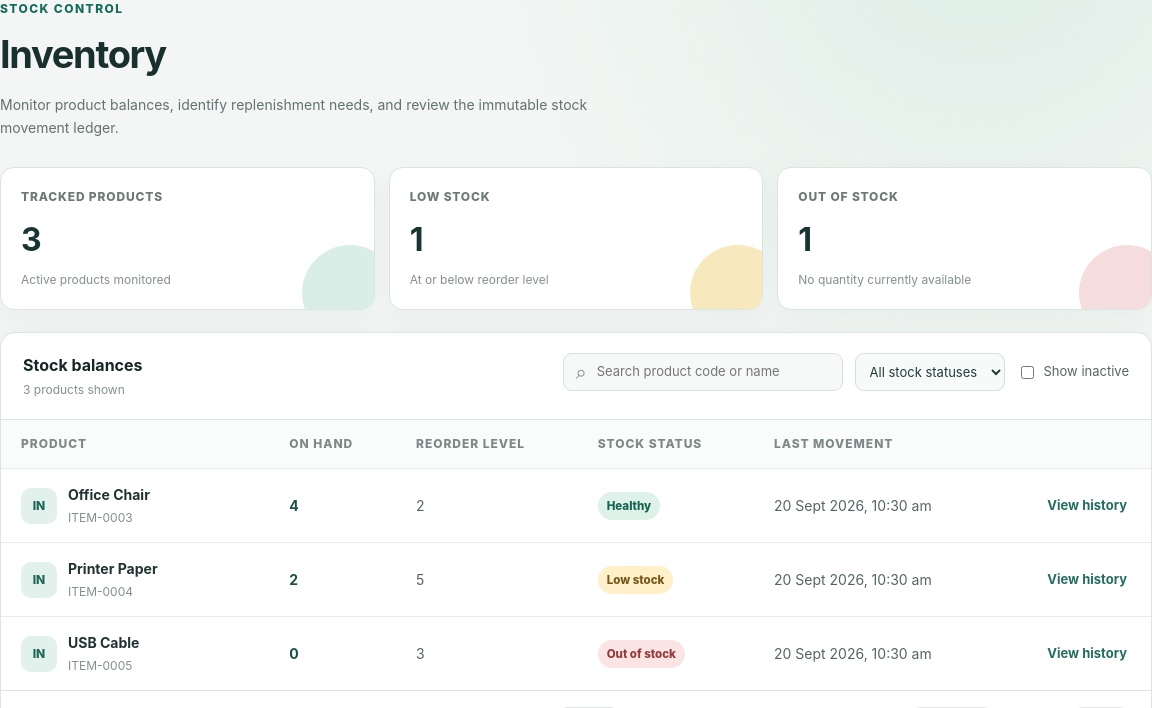
Test case: InventoryListView › opens the product ledger and loads its transactions
The image size is (1152, 708).
Click the button "View history" in the row of "Office Chair": (1087,506) x1=1043 y1=492 x2=1131 y2=519
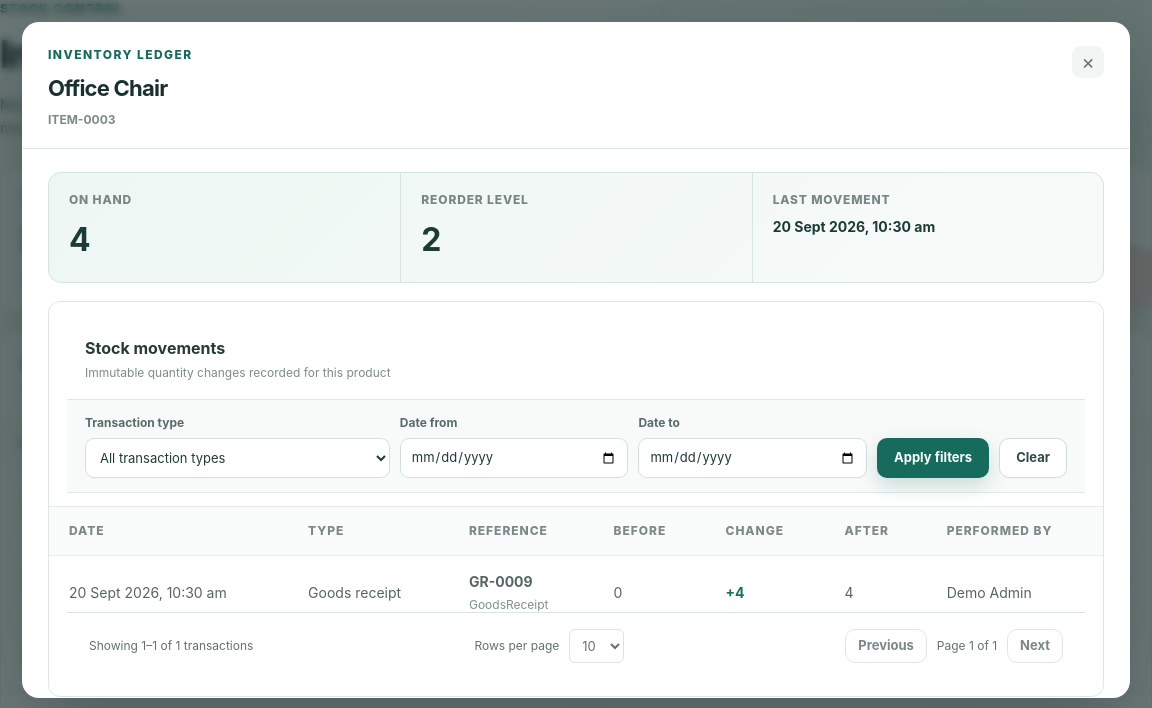
Expected: the dialog shows "Office Chair", x1=48 y1=75 x2=167 y2=101
Expected: the dialog shows "GR-0009", x1=469 y1=573 x2=533 y2=590
Expected: the dialog shows "+4", x1=726 y1=584 x2=744 y2=601
